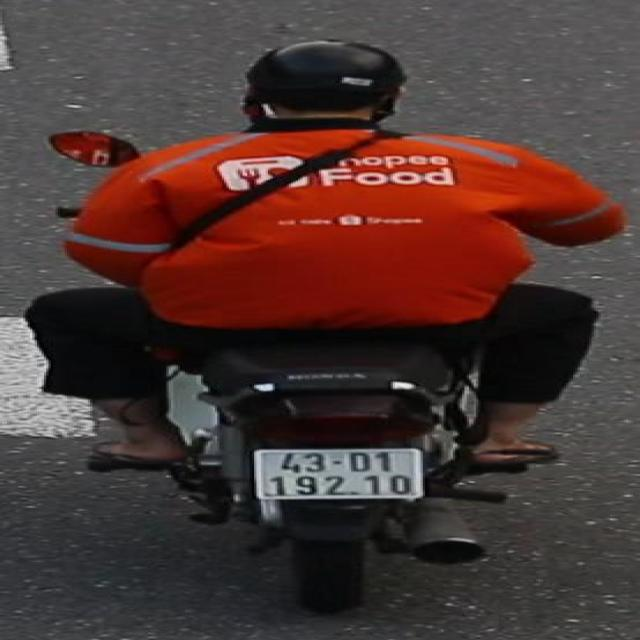LP: (252, 443, 432, 505)
helmet: (235, 35, 420, 139)
